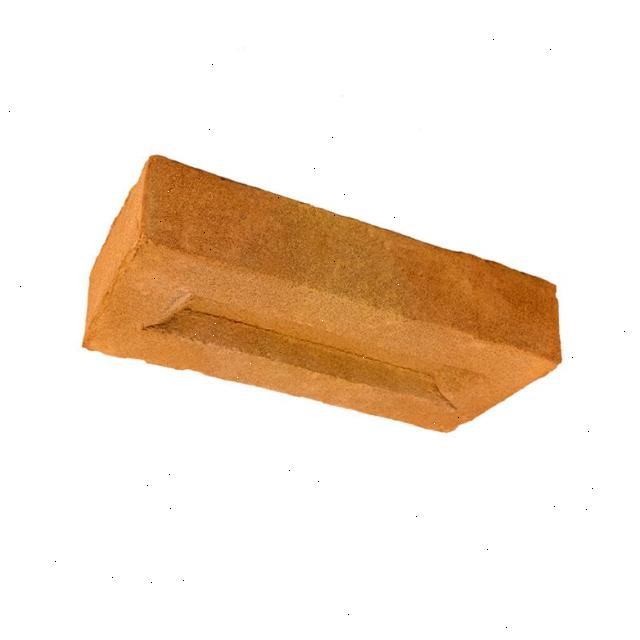bricks: (83, 151, 561, 438)
